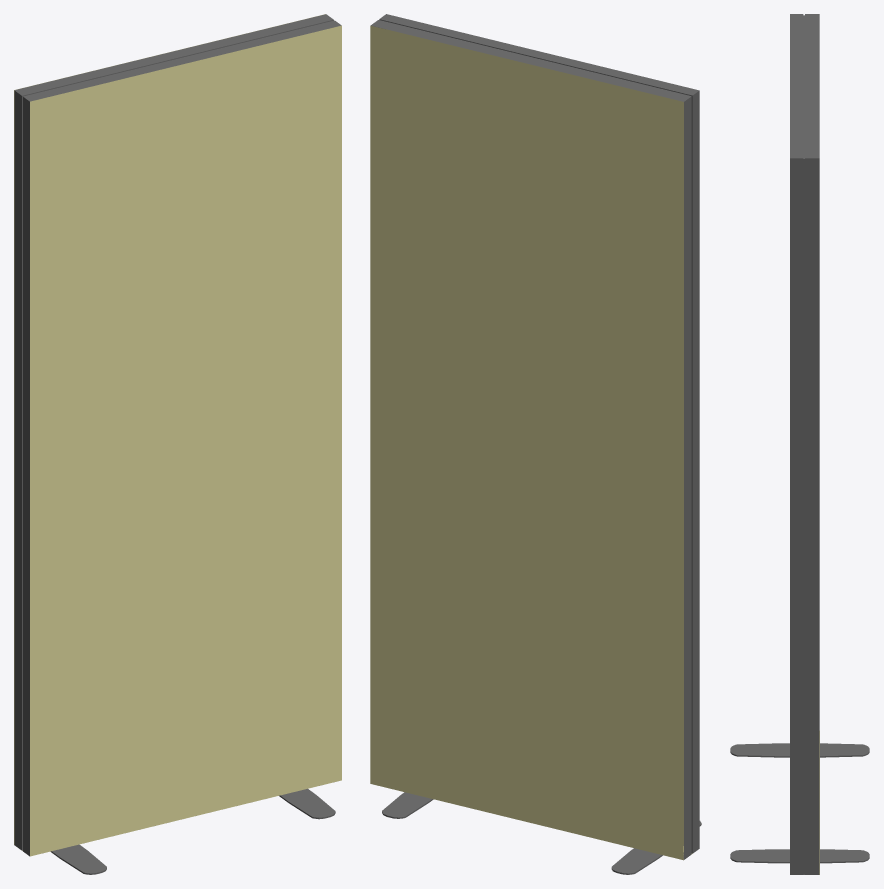
The model's file is 3.5ft Lightbox.glb.
3 views of the same model, side by side, from view 1: azimuth 30°, elevation 25°; view 2: azimuth 150°, elevation 25°; view 3: azimuth 270°, elevation 25° (orthographic). The views are drawn at different scales.
Visible parts, largest first — view 1: Bridge.001, toggle_feet_center.018; view 2: Bridge.001, toggle_feet_center.018; view 3: Bridge.001, toggle_feet_center.018.
Part boxes in pixels (x1,y1,x2,y2): Bridge.001: (14,14,341,856); toggle_feet_center.018: (50,789,335,874); Bridge.001: (370,14,699,860); toggle_feet_center.018: (382,794,701,874); Bridge.001: (790,14,819,874); toggle_feet_center.018: (730,743,869,863).
Bounding box in the file's own units: 1.05 × 2.44 × 0.4285.
